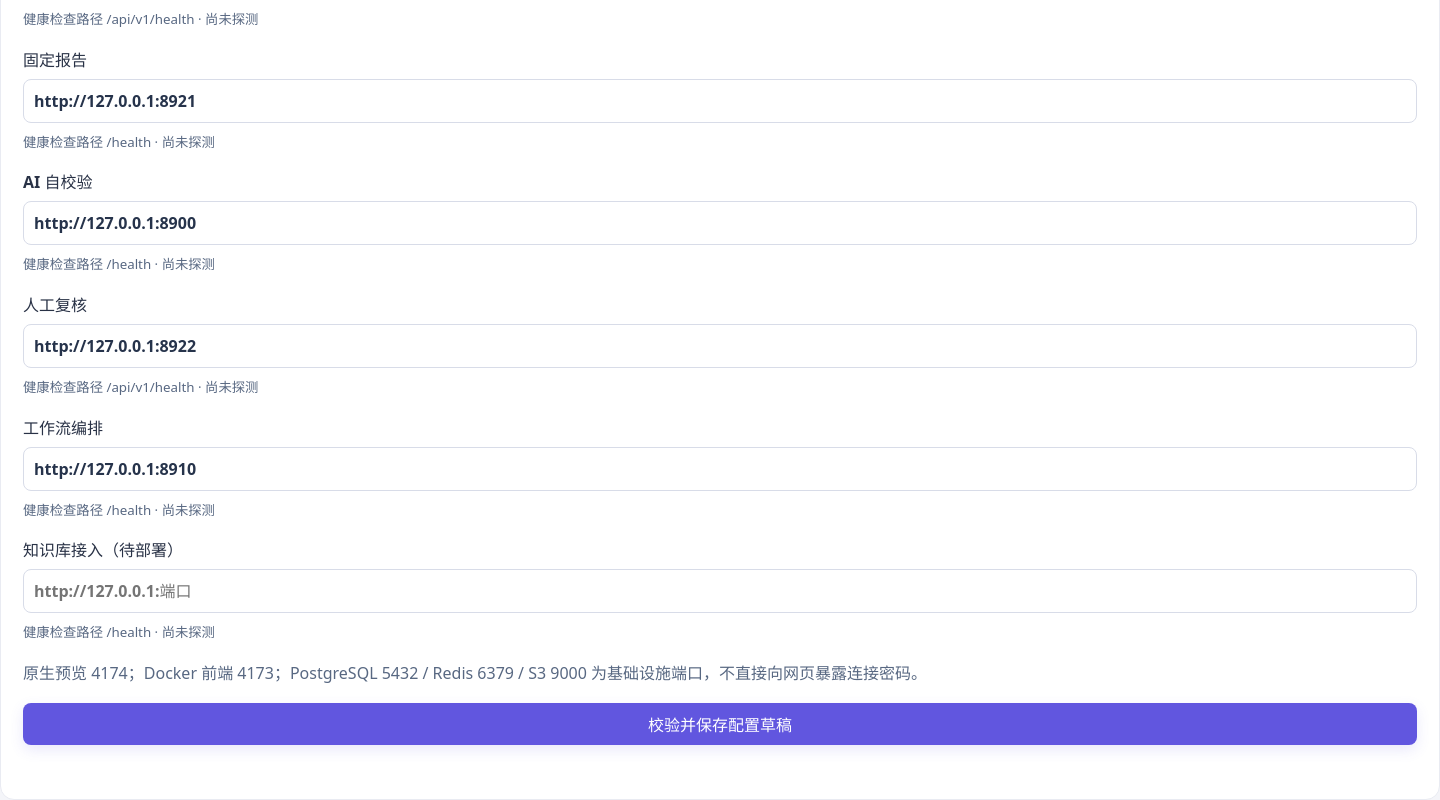
Test: operations local-only gates › saves configuration without claiming connectivity or scheduler activation
(page scrolled)
Click the button "校验并保存配置草稿".
click(720, 724)  # box [23,703,1417,745]
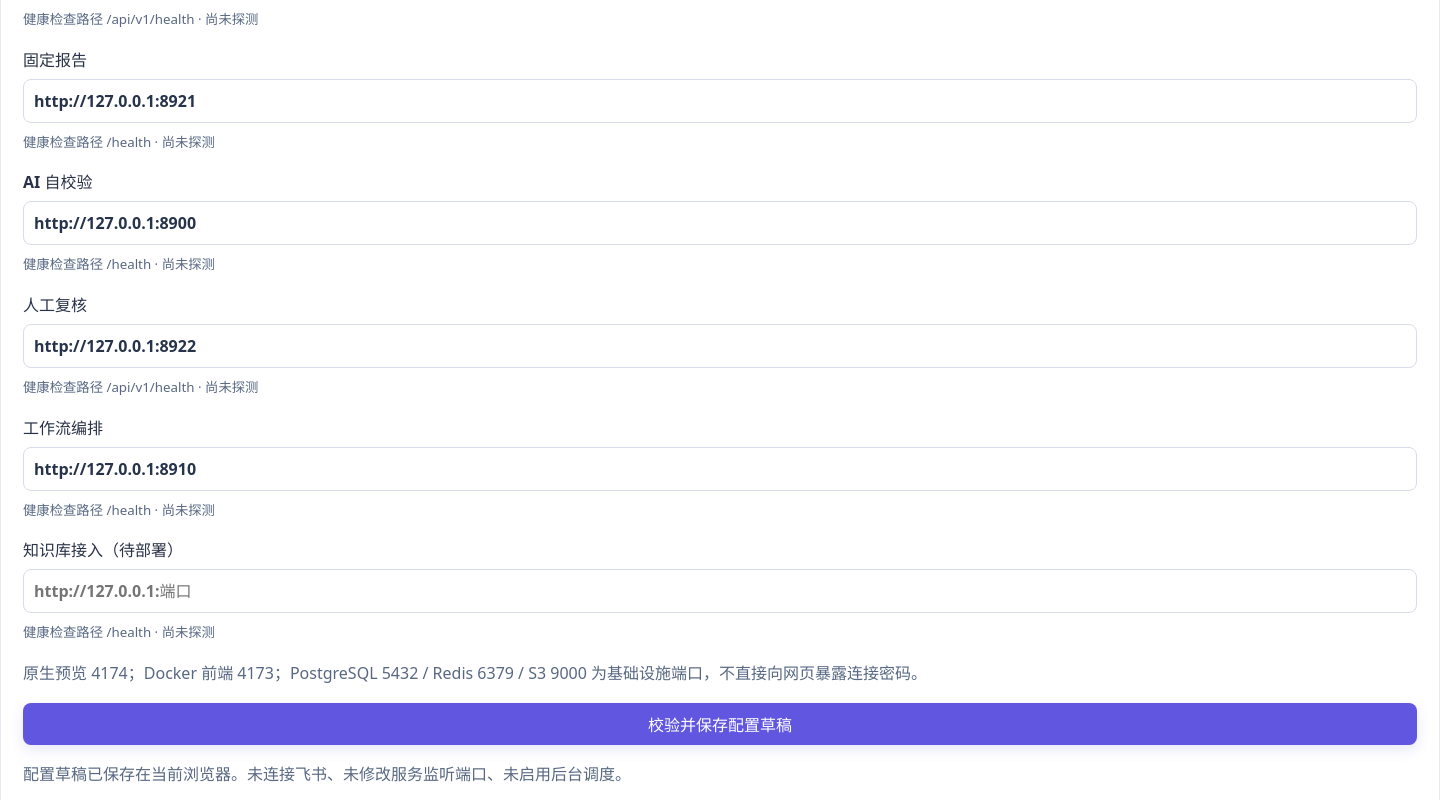
Check: the text "配置草稿已保存在当前浏览器。未连接飞书、未修改服务监听端口、未启用后台调度。" is shown, box [23,763,631,785]
